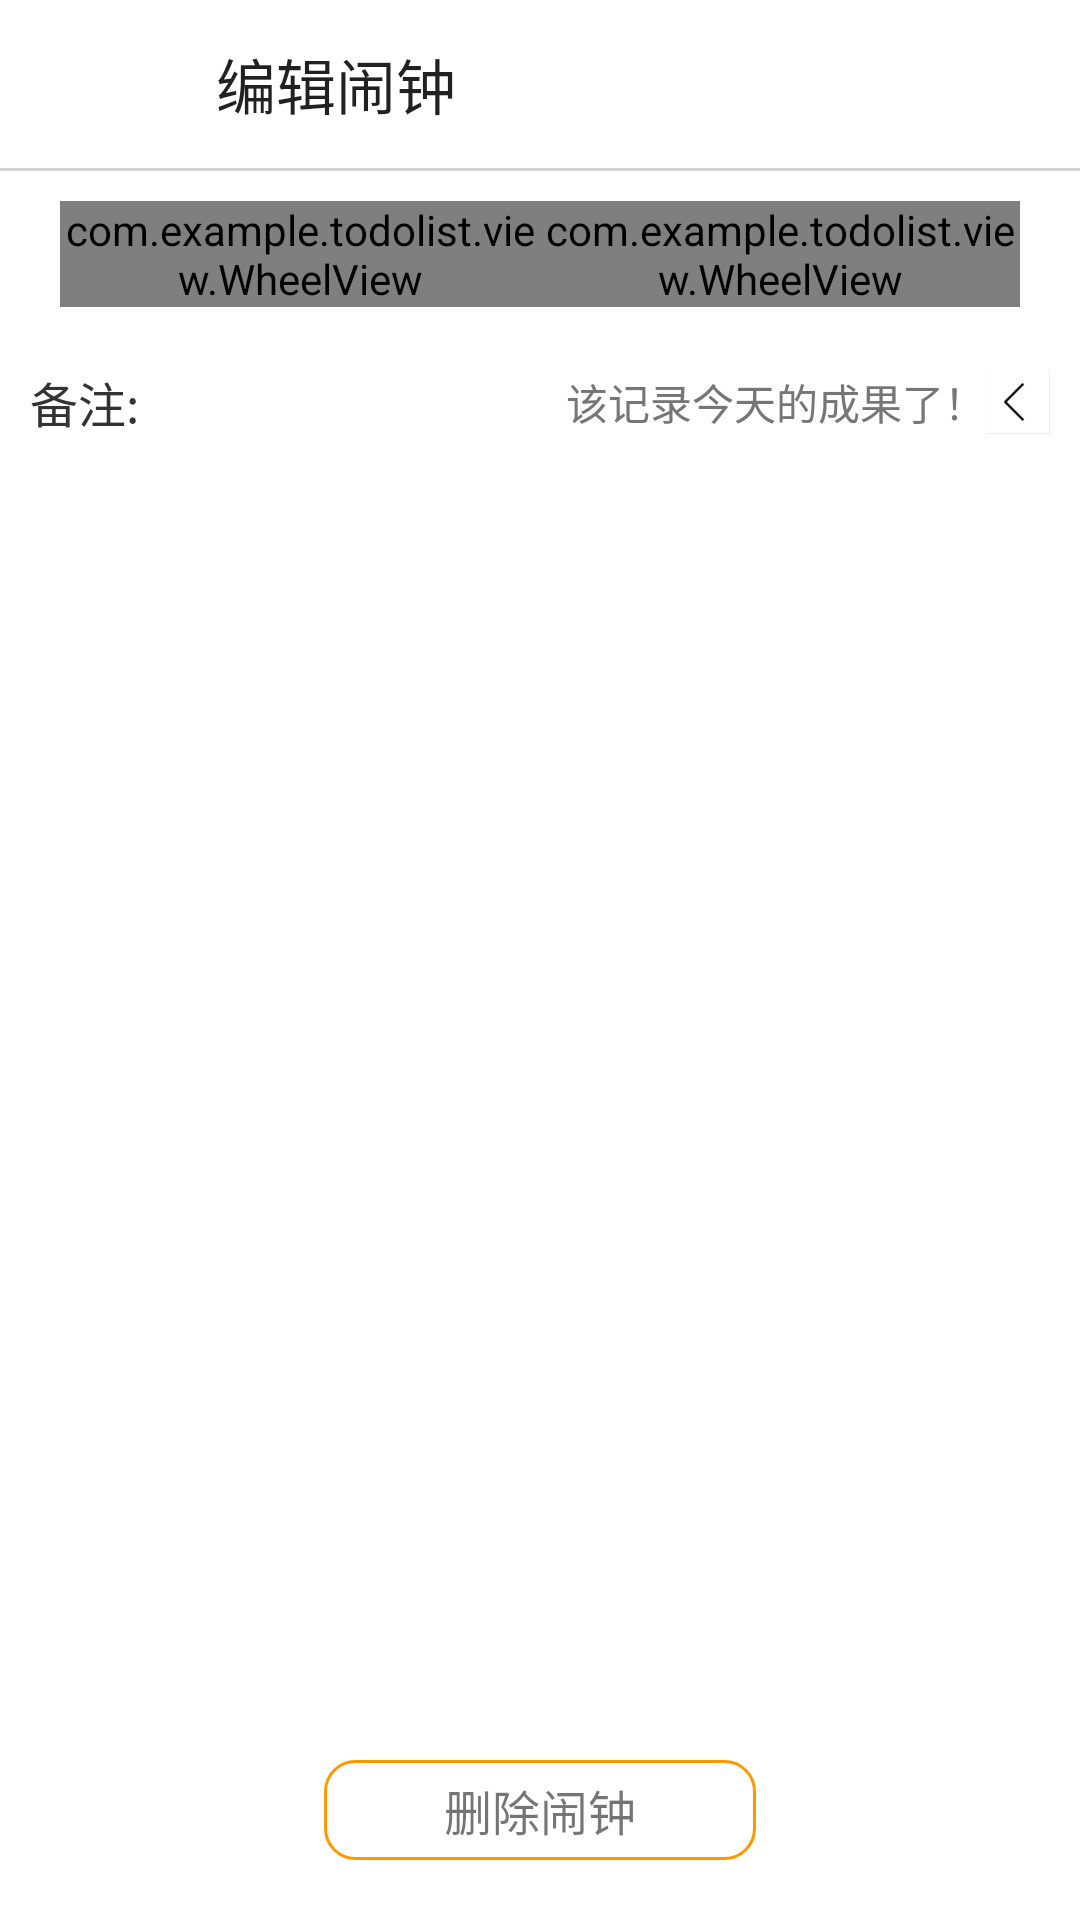

Where to tap for icons on this 1080 × 1920 app screen, as point (x, y):
back: point (1027, 408)
